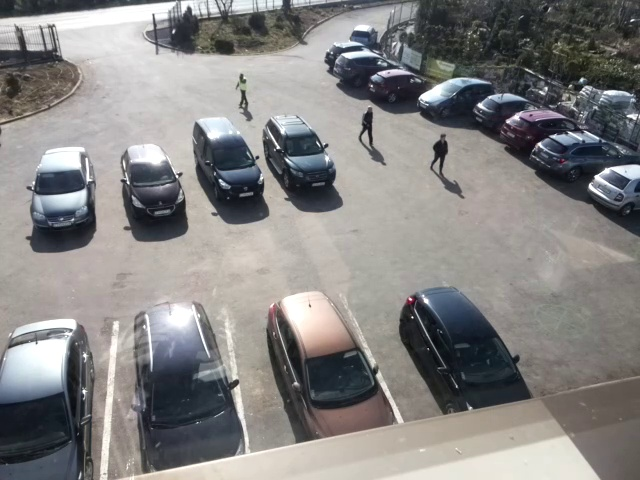car: (268, 291, 400, 442), (134, 301, 246, 472), (400, 287, 531, 416), (1, 318, 96, 479), (192, 118, 265, 201), (30, 144, 95, 230), (263, 115, 335, 190), (531, 131, 639, 181), (121, 144, 186, 222), (503, 110, 590, 154), (418, 76, 493, 119), (472, 91, 547, 131), (587, 165, 640, 219), (331, 52, 411, 87), (368, 68, 435, 103), (325, 40, 381, 71), (349, 24, 378, 46)
